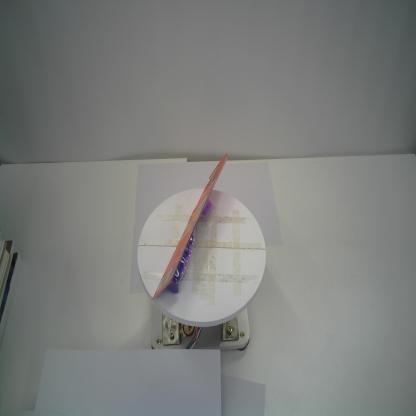Personal Hygiene: (152, 152, 228, 299)
